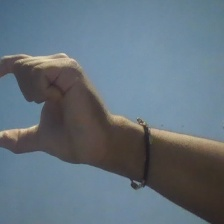G: (1, 50, 111, 174)
